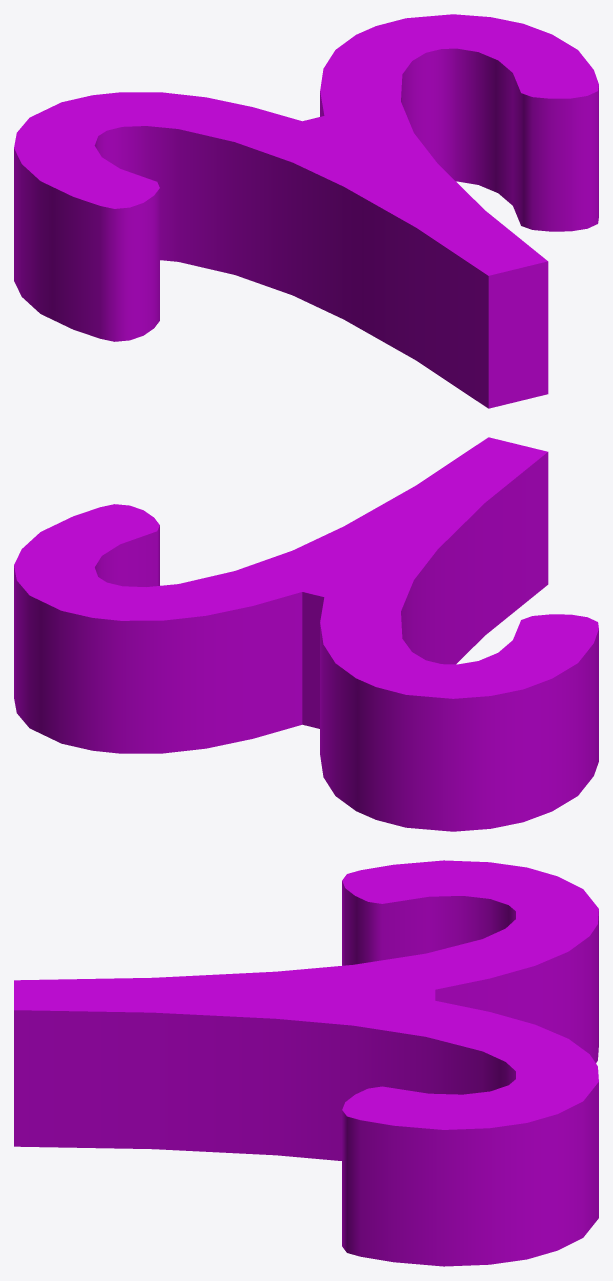
The model's file is Aries.fbx.
The picture shows the model from 3 angles, top to bottom: view 1: azimuth 30°, elevation 25°; view 2: azimuth 150°, elevation 25°; view 3: azimuth 270°, elevation 25°; orthographic projection. The views are drawn at different scales.
Parts seen in each view (by area): view 1: 1.ARIES; view 2: 1.ARIES; view 3: 1.ARIES.
Part boxes in pixels (box(x1,y1,x2,y2)): 1.ARIES: box(14, 14, 598, 408); 1.ARIES: box(14, 437, 598, 831); 1.ARIES: box(14, 860, 598, 1266).
Size of the model in its own units: 154 by 36.38 by 141.
